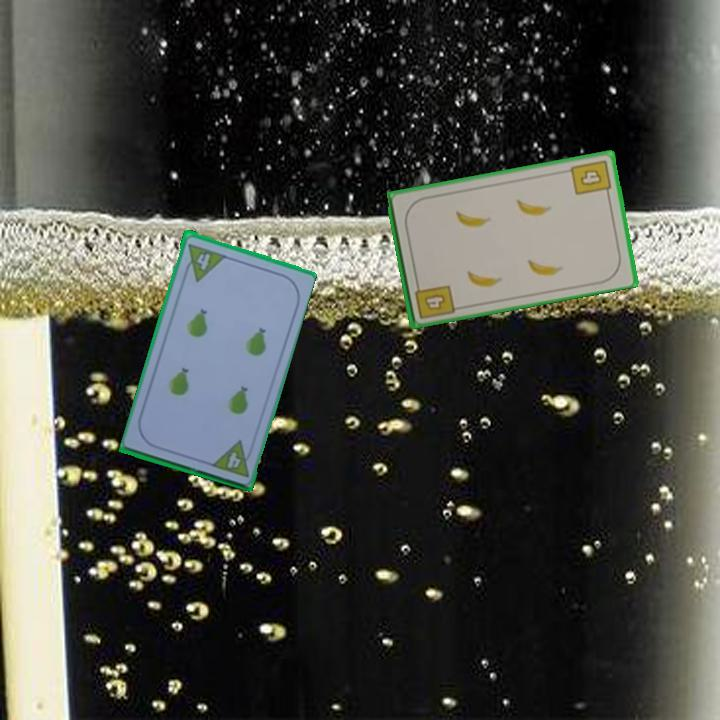4b: (411, 277, 457, 322), (567, 156, 614, 199)
4p: (179, 239, 228, 283), (208, 436, 257, 480)
